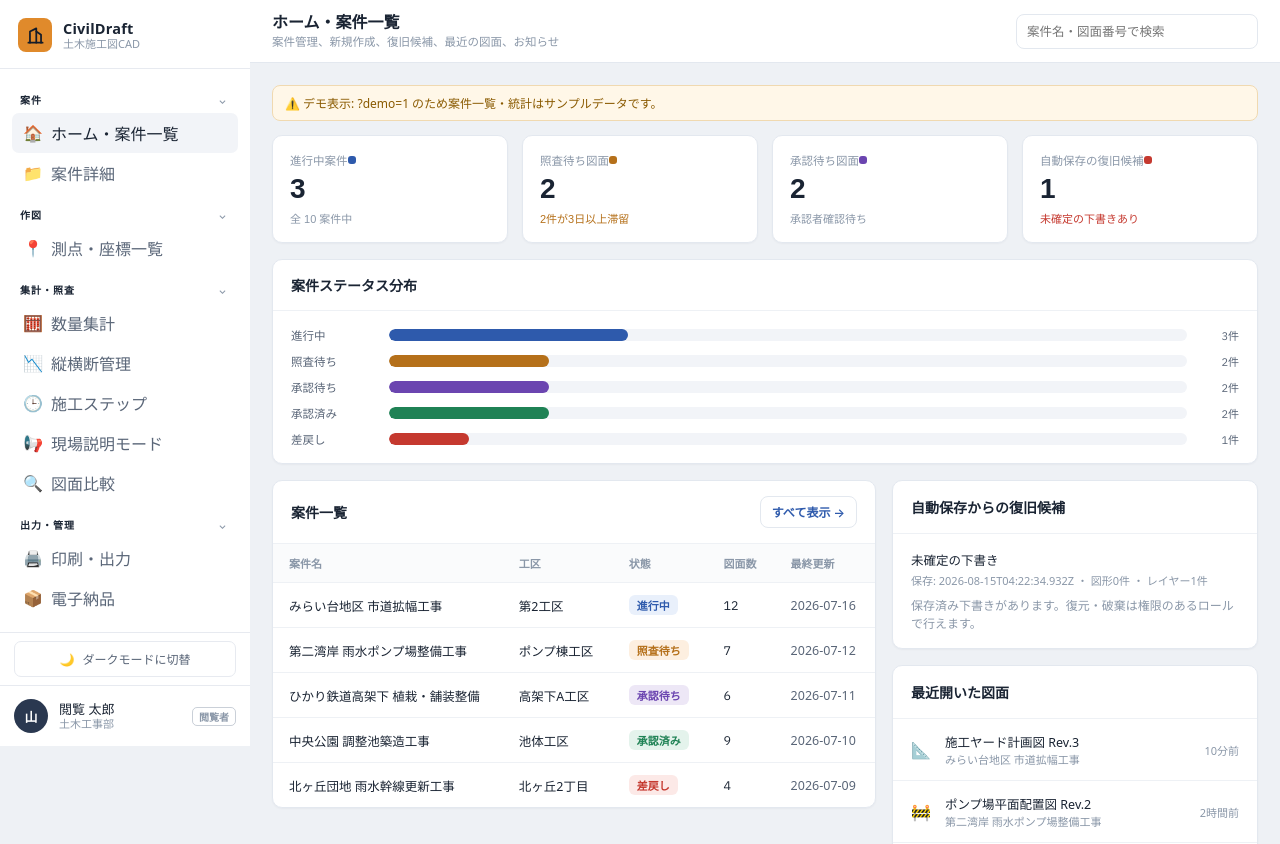
App ロール連動 › 承認状態の取得失敗時は「未取得」のまま表示する（#178）
The width and height of the screenshot is (1280, 844).
Check: the field with placeholder "案件名・図面番号で検索" is shown, box 1016,14 -> 1258,48
Click the button "📢 現場説明モード" at (125, 443), box 12,423 -> 238,463
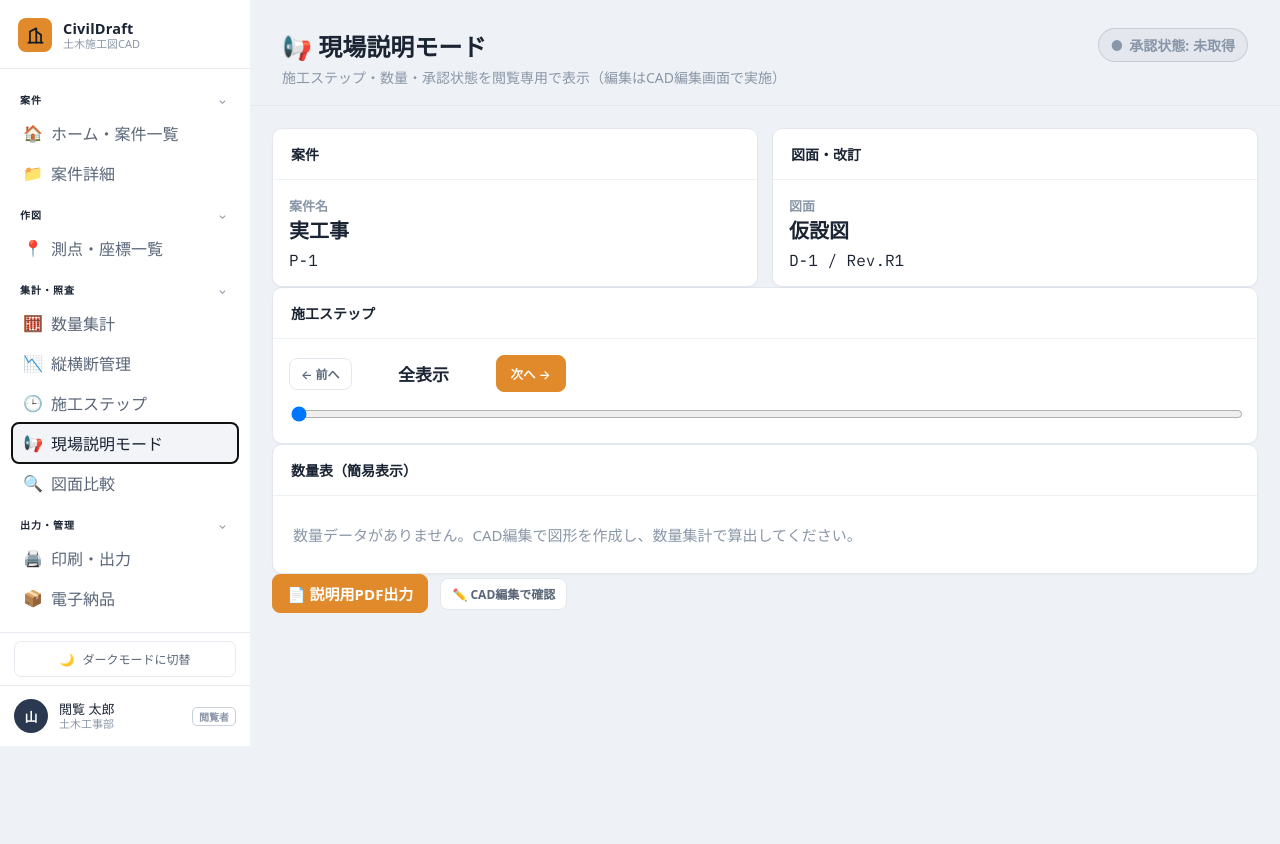
Check: the element labelled "承認状態: 未取得" is shown, box 1098,28 -> 1248,62
